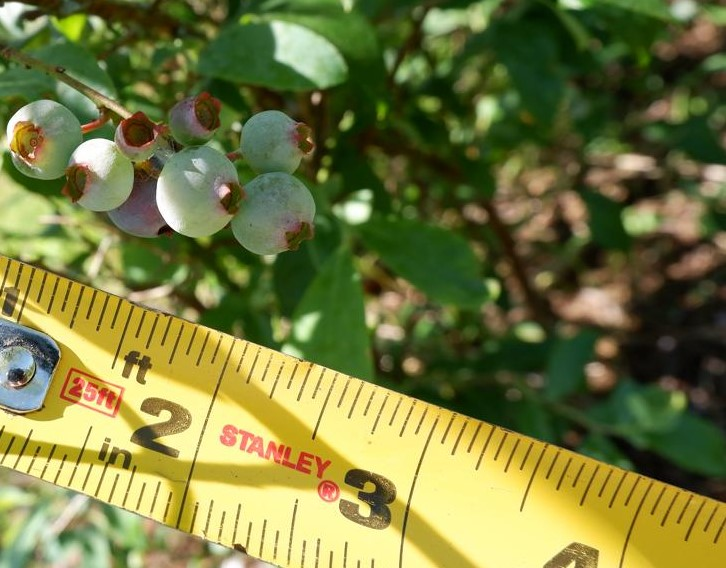Immature: (156, 146, 247, 239), (231, 172, 316, 256), (6, 99, 85, 180), (106, 156, 173, 239), (59, 139, 134, 211), (240, 110, 314, 175), (167, 91, 223, 146), (113, 111, 162, 162)
